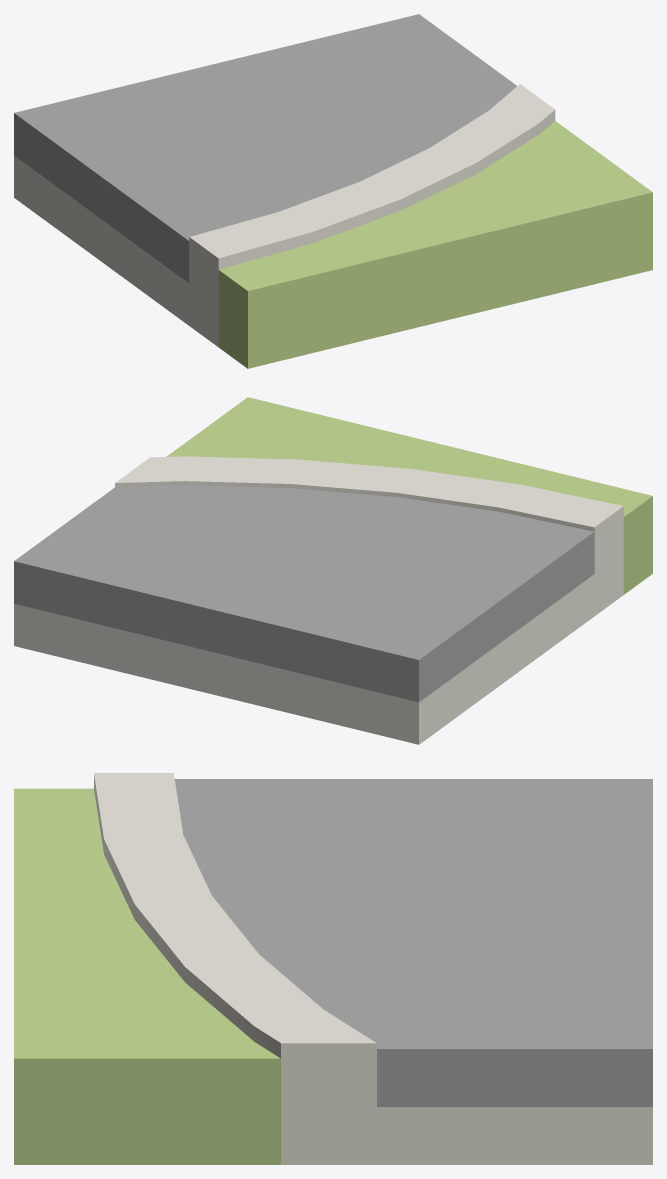
Rendered from road_tile_053.glb.
The picture shows the model from 3 angles, top to bottom: view 1: azimuth 30°, elevation 25°; view 2: azimuth 150°, elevation 25°; view 3: azimuth 270°, elevation 25°; orthographic projection. The views are drawn at different scales.
Visible parts, largest first — view 1: roadTile_053; view 2: roadTile_053; view 3: roadTile_053.
Part boxes in pixels (x1,y1,x2,y2): roadTile_053: (14,14,652,368); roadTile_053: (14,397,652,744); roadTile_053: (14,773,652,1164).
Size of the model in its own units: 3 by 0.63 by 3.
